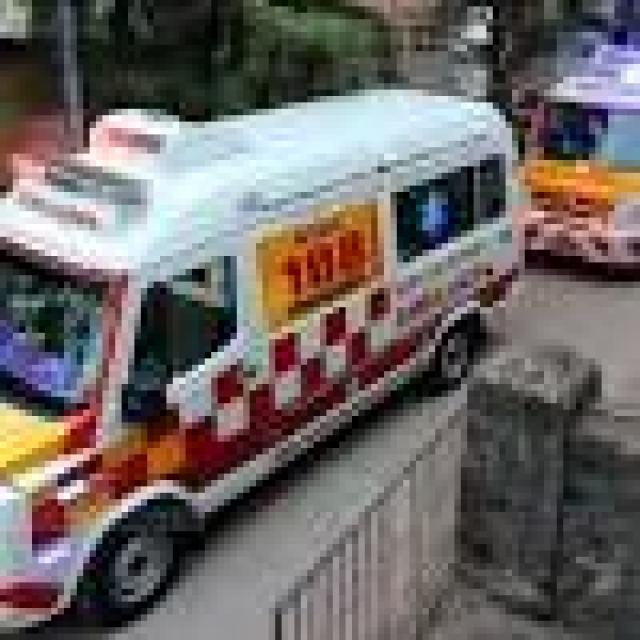ambulance: (6, 45, 529, 575), (512, 26, 640, 300)
